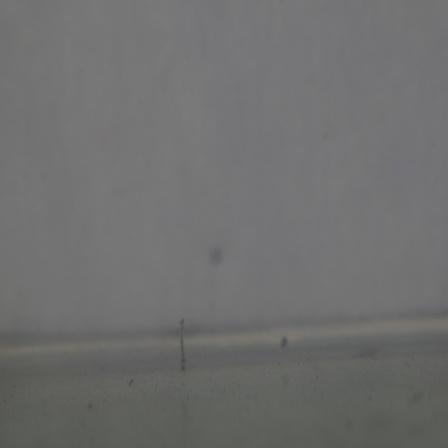Jentik-Nyamuk: (177, 312, 189, 374)
